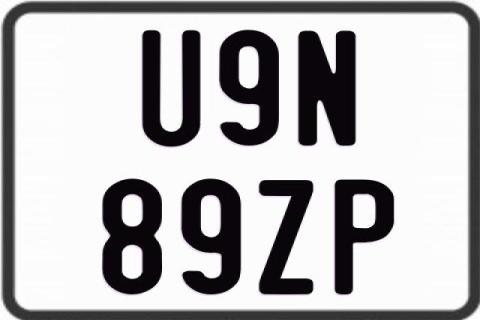0: (181, 177, 245, 297), (102, 178, 162, 298), (216, 27, 276, 145)
N: (297, 29, 357, 145)
P: (334, 179, 396, 297)
U: (139, 28, 203, 146)
Z: (257, 178, 312, 294)
